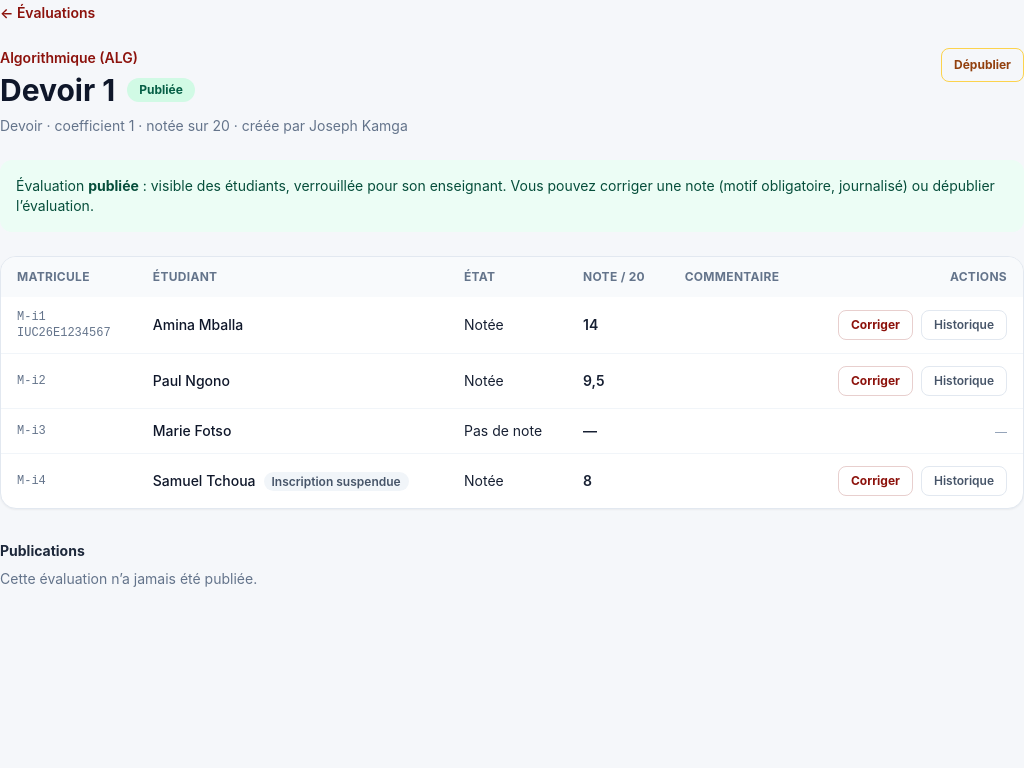
Test case: grille de notes du personnel › corrige une note avec motif et updatedAt, puis recharge la grille et confirme
Click the button "Corriger" in the row of "M-i2": click(875, 381) x1=838 y1=366 x2=913 y2=396
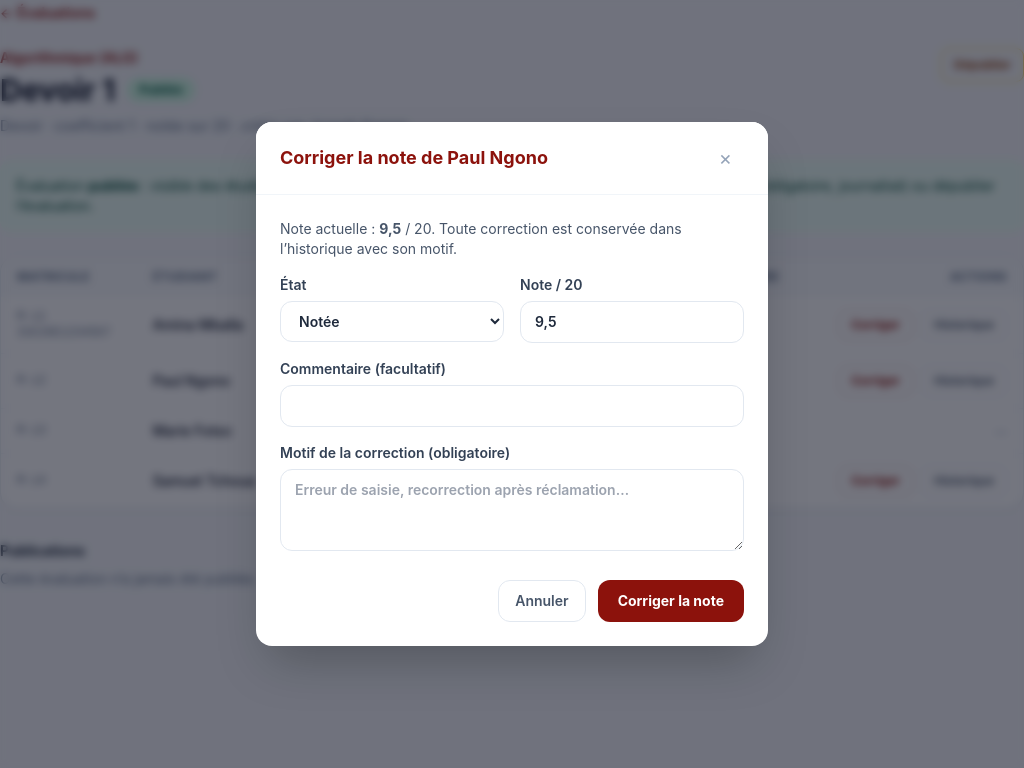
Replace the text in the field labelled "Note / 20" with "12": (632, 322) x1=520 y1=301 x2=744 y2=343
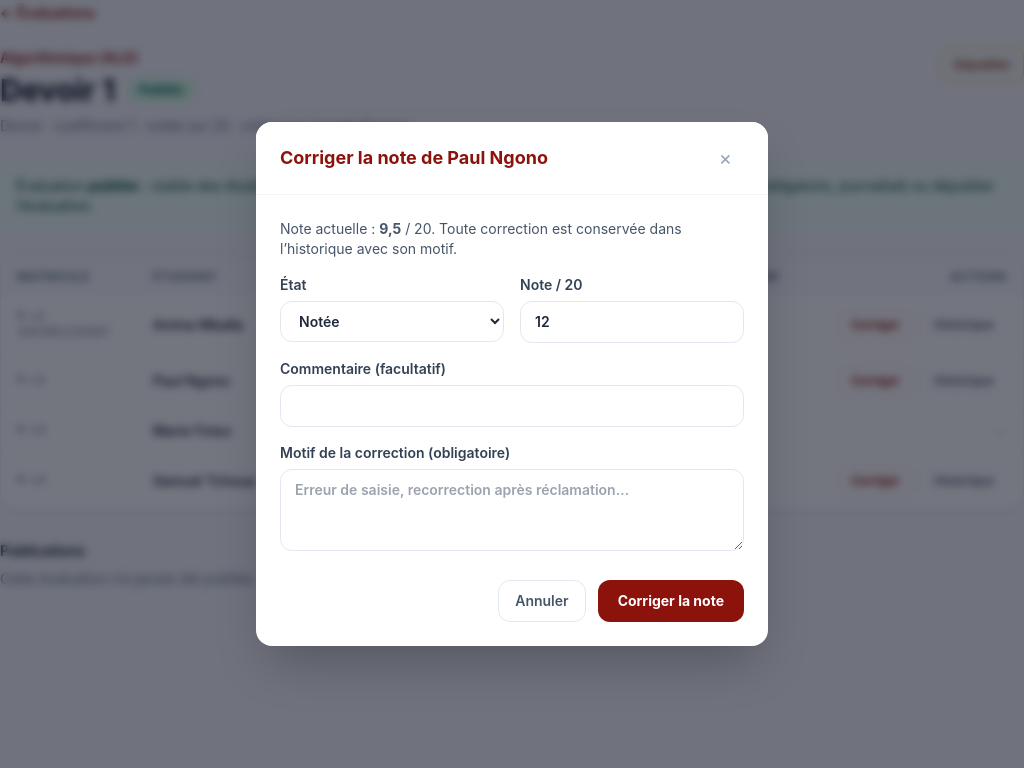
In the text box labelled "Motif de la correction (obligatoire)": (512, 510) x1=280 y1=469 x2=744 y2=551, type "  Erreur de saisie  "
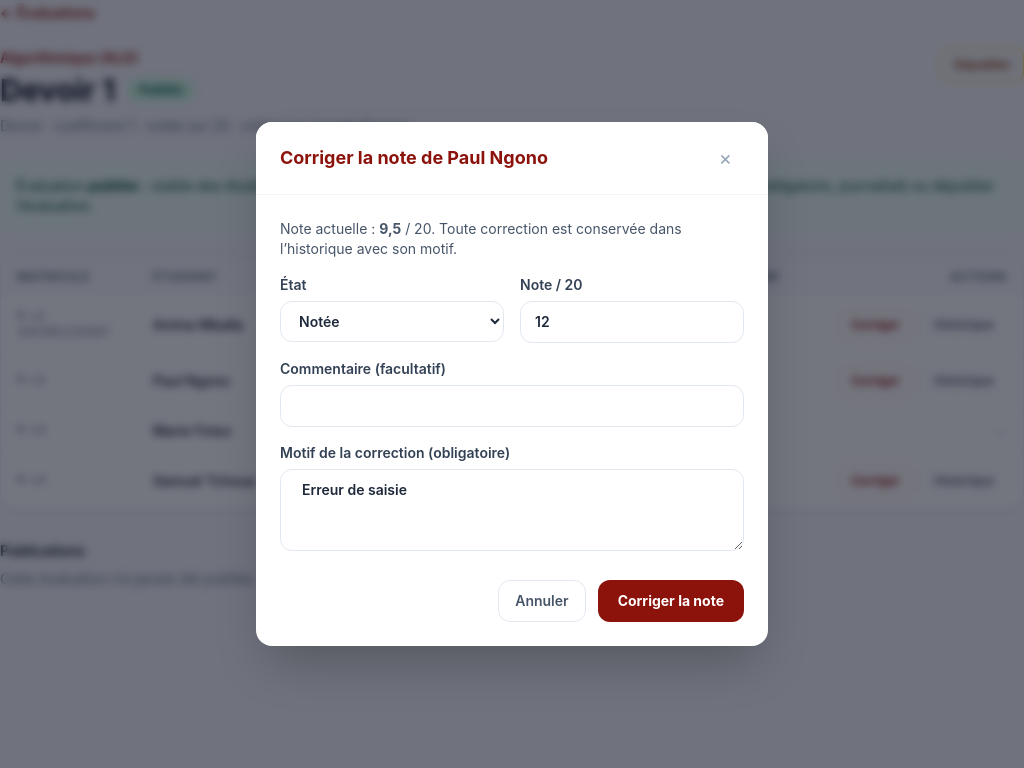
Click the button "Corriger la note": click(671, 601) x1=598 y1=580 x2=744 y2=622
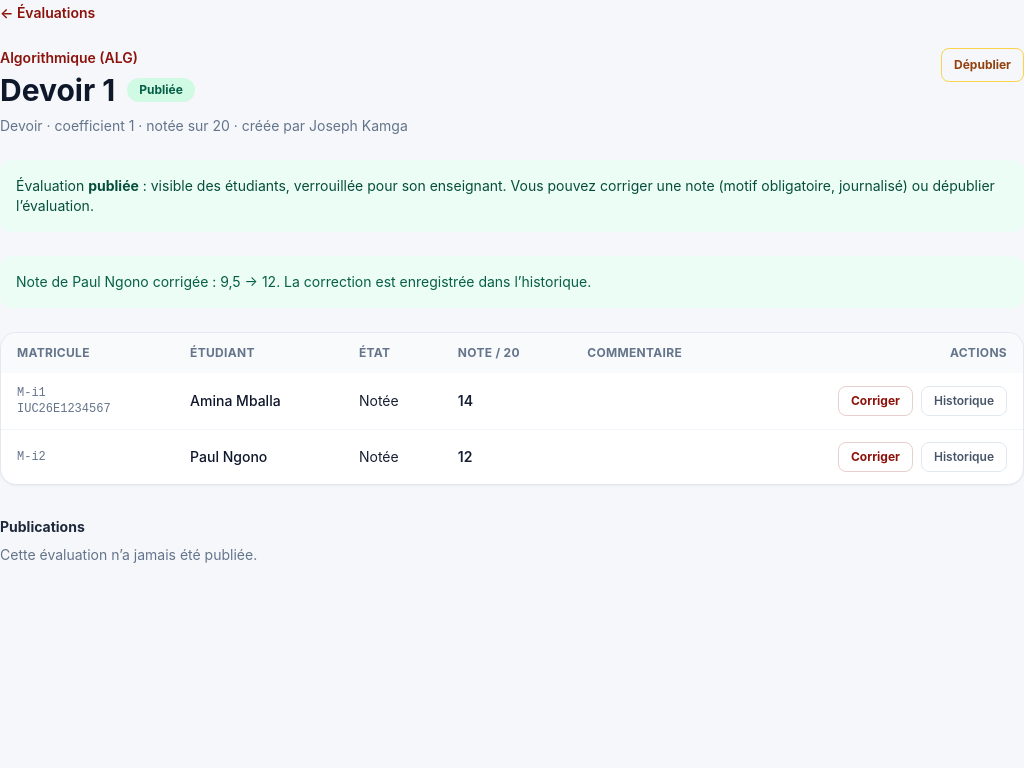
Now the message shows "Note de Paul Ngono corrigée : 9,5 → 12", box x1=16 y1=273 x2=591 y2=290
Now the dialog is gone
Now the text "12" is shown, box x1=442 y1=430 x2=571 y2=484
